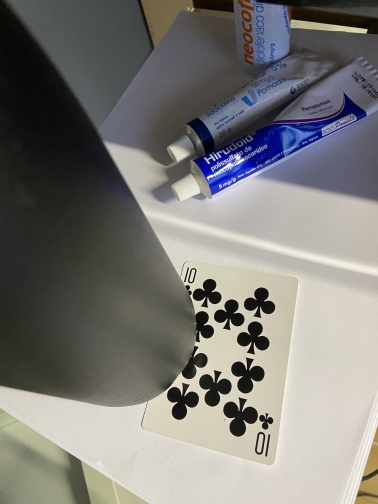ten: (139, 259, 300, 467)
